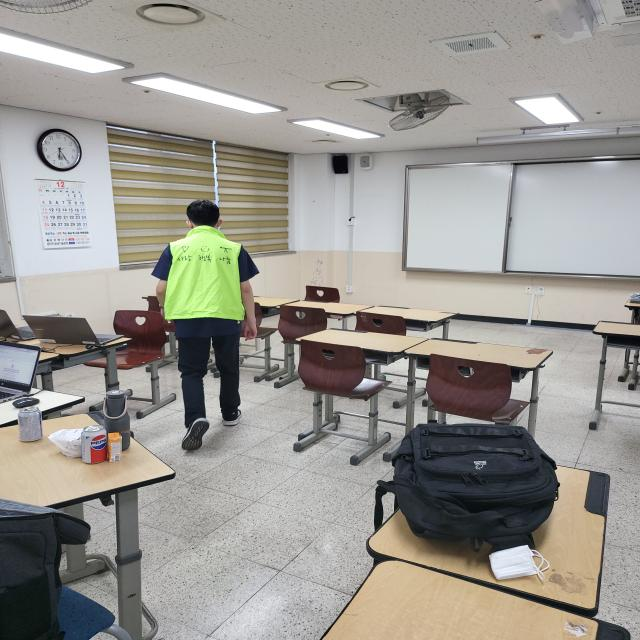weston_spy: (158, 223, 250, 326)
